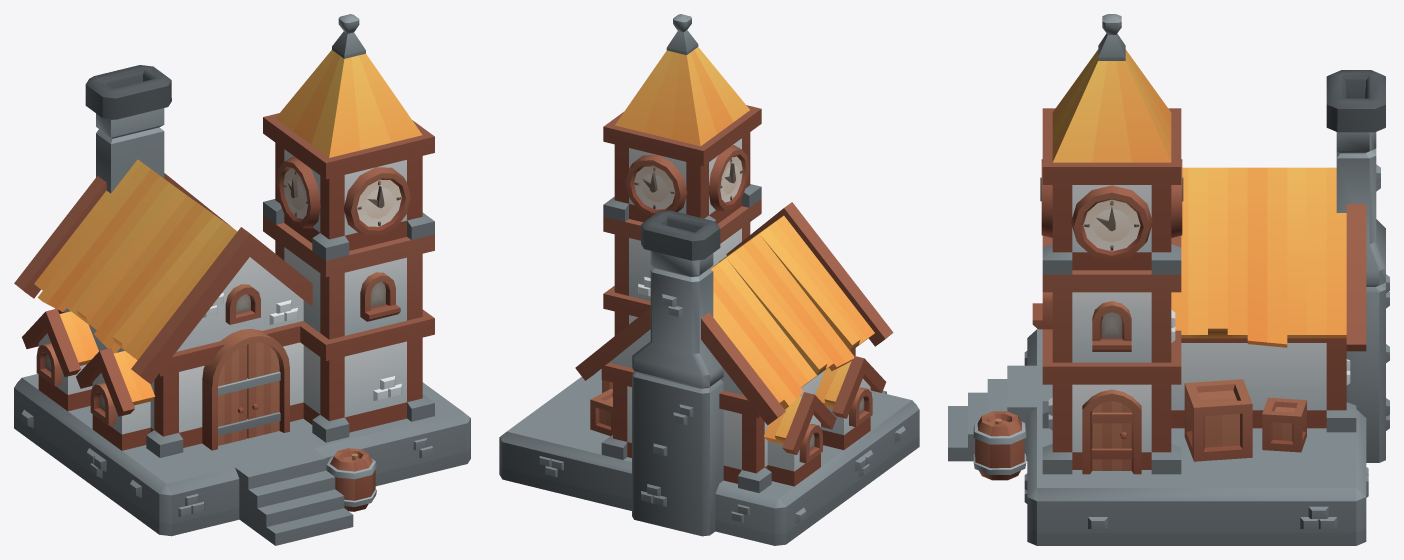
Rendered from building_townhall_yellow.glb.
3 renders of one model, left to right at view 1: azimuth 30°, elevation 25°; view 2: azimuth 150°, elevation 25°; view 3: azimuth 270°, elevation 25°, orthographic. The views are drawn at different scales.
Visible parts, largest first — view 1: building_townhall_yellow; view 2: building_townhall_yellow; view 3: building_townhall_yellow.
Boxes of the visible parts, bbox=[...] form: building_townhall_yellow: bbox=[14, 14, 470, 545]; building_townhall_yellow: bbox=[499, 14, 919, 545]; building_townhall_yellow: bbox=[948, 14, 1389, 545].
Size of the model in its own units: 1.43 by 1.89 by 1.56.
Materials: 1 (1 with a texture image).
